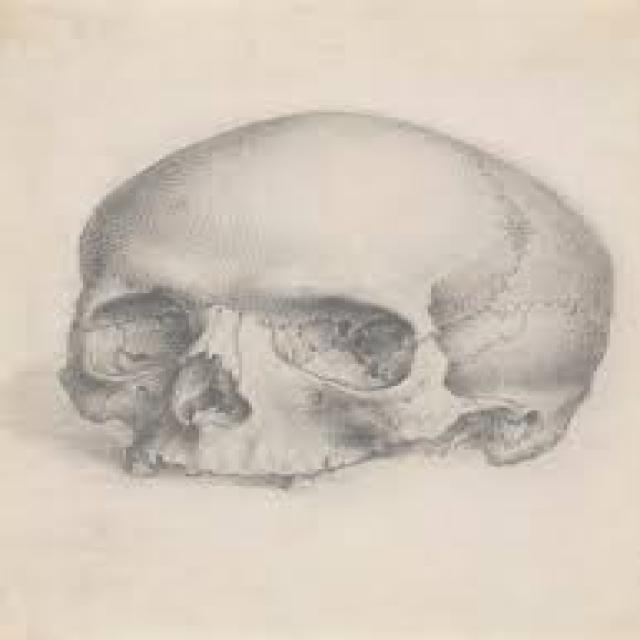skull: (42, 106, 640, 516)
